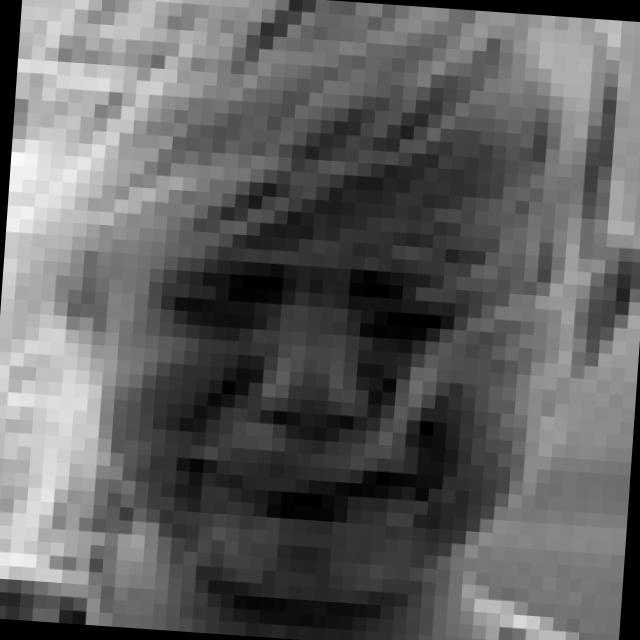sad: (118, 241, 492, 548)
